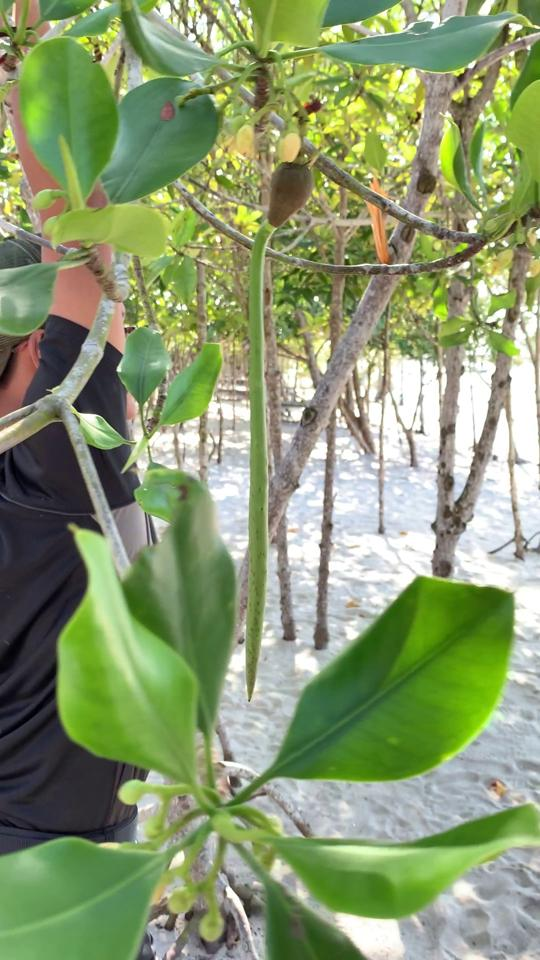setengah matang: (235, 148, 323, 710)
